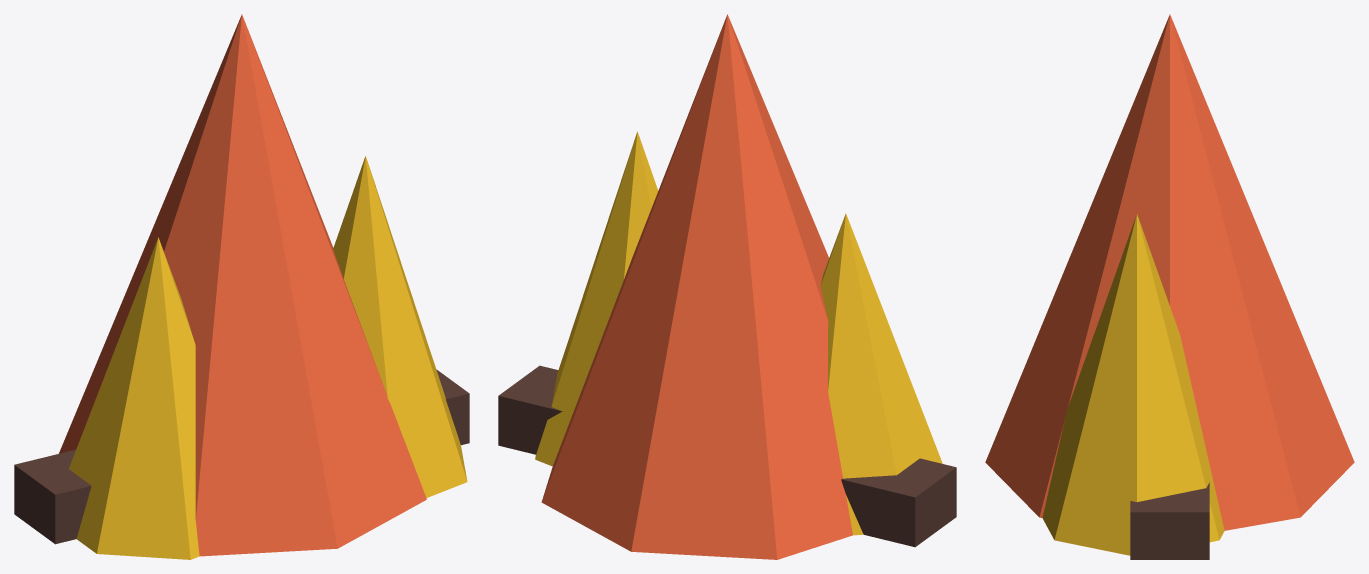
The model's file is eld.glb.
The picture shows the model from 3 angles, left to right: view 1: azimuth 30°, elevation 25°; view 2: azimuth 150°, elevation 25°; view 3: azimuth 270°, elevation 25°; orthographic projection. The views are drawn at different scales.
Parts seen in each view (by area): view 1: eld; view 2: eld; view 3: eld.
Boxes of the visible parts, left/top/right/bottom form: eld: left=14, top=14, right=469, bottom=559; eld: left=498, top=14, right=956, bottom=559; eld: left=985, top=14, right=1354, bottom=559.
Size of the model in its own units: 0.7 by 0.75 by 0.56.
